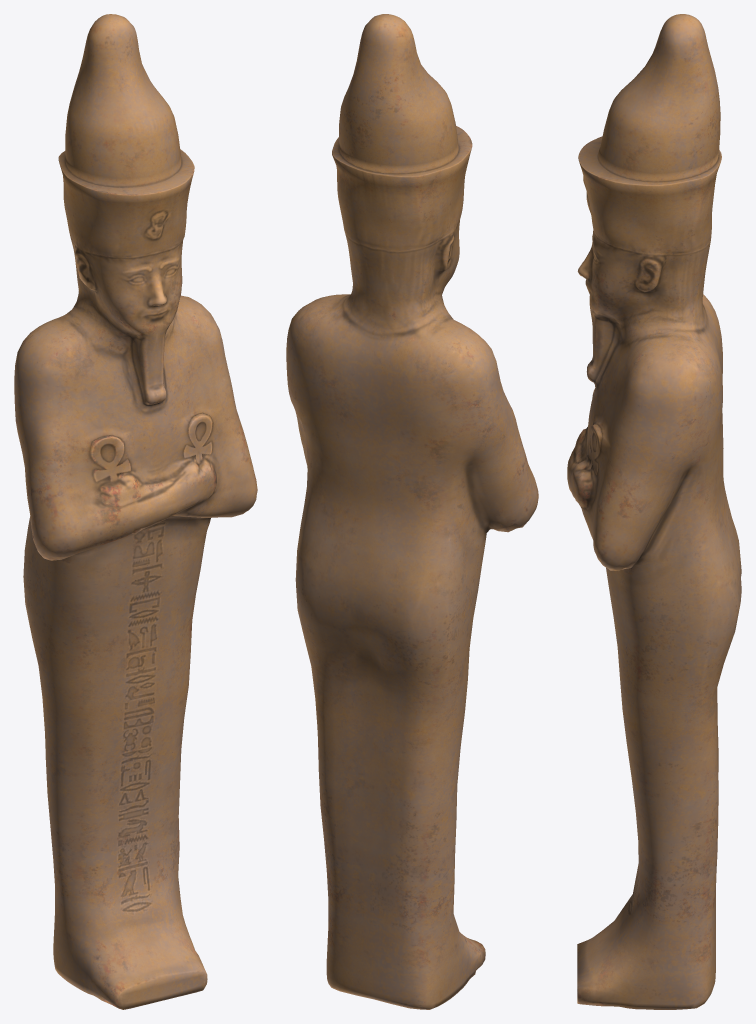
The model's file is Egypt_Statue.fbx.
3 renders of one model, left to right at view 1: azimuth 30°, elevation 25°; view 2: azimuth 150°, elevation 25°; view 3: azimuth 270°, elevation 25°, orthographic. The views are drawn at different scales.
Parts seen in each view (by area): view 1: Egypt_Statue_01; view 2: Egypt_Statue_01; view 3: Egypt_Statue_01.
Part boxes in pixels (left/top/right/bottom): Egypt_Statue_01: left=14, top=14, right=257, bottom=1009; Egypt_Statue_01: left=286, top=14, right=538, bottom=1009; Egypt_Statue_01: left=567, top=14, right=741, bottom=1009.
Size of the model in its own units: 71.91 by 300 by 49.04.
